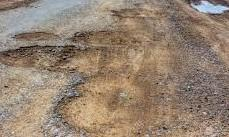pothole: (60, 76, 229, 137), (73, 29, 229, 76), (114, 1, 229, 29), (0, 44, 95, 74), (13, 31, 62, 42)
